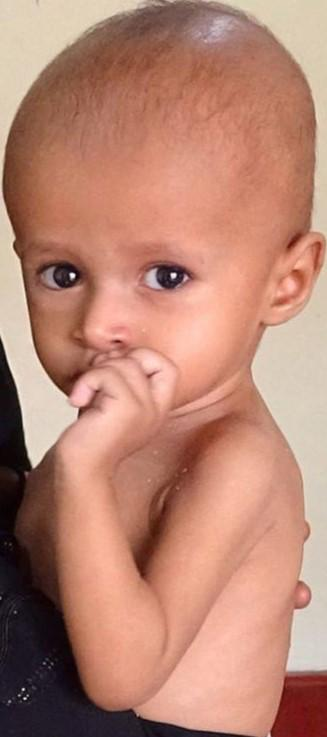Stunting: (0, 0, 327, 424)
